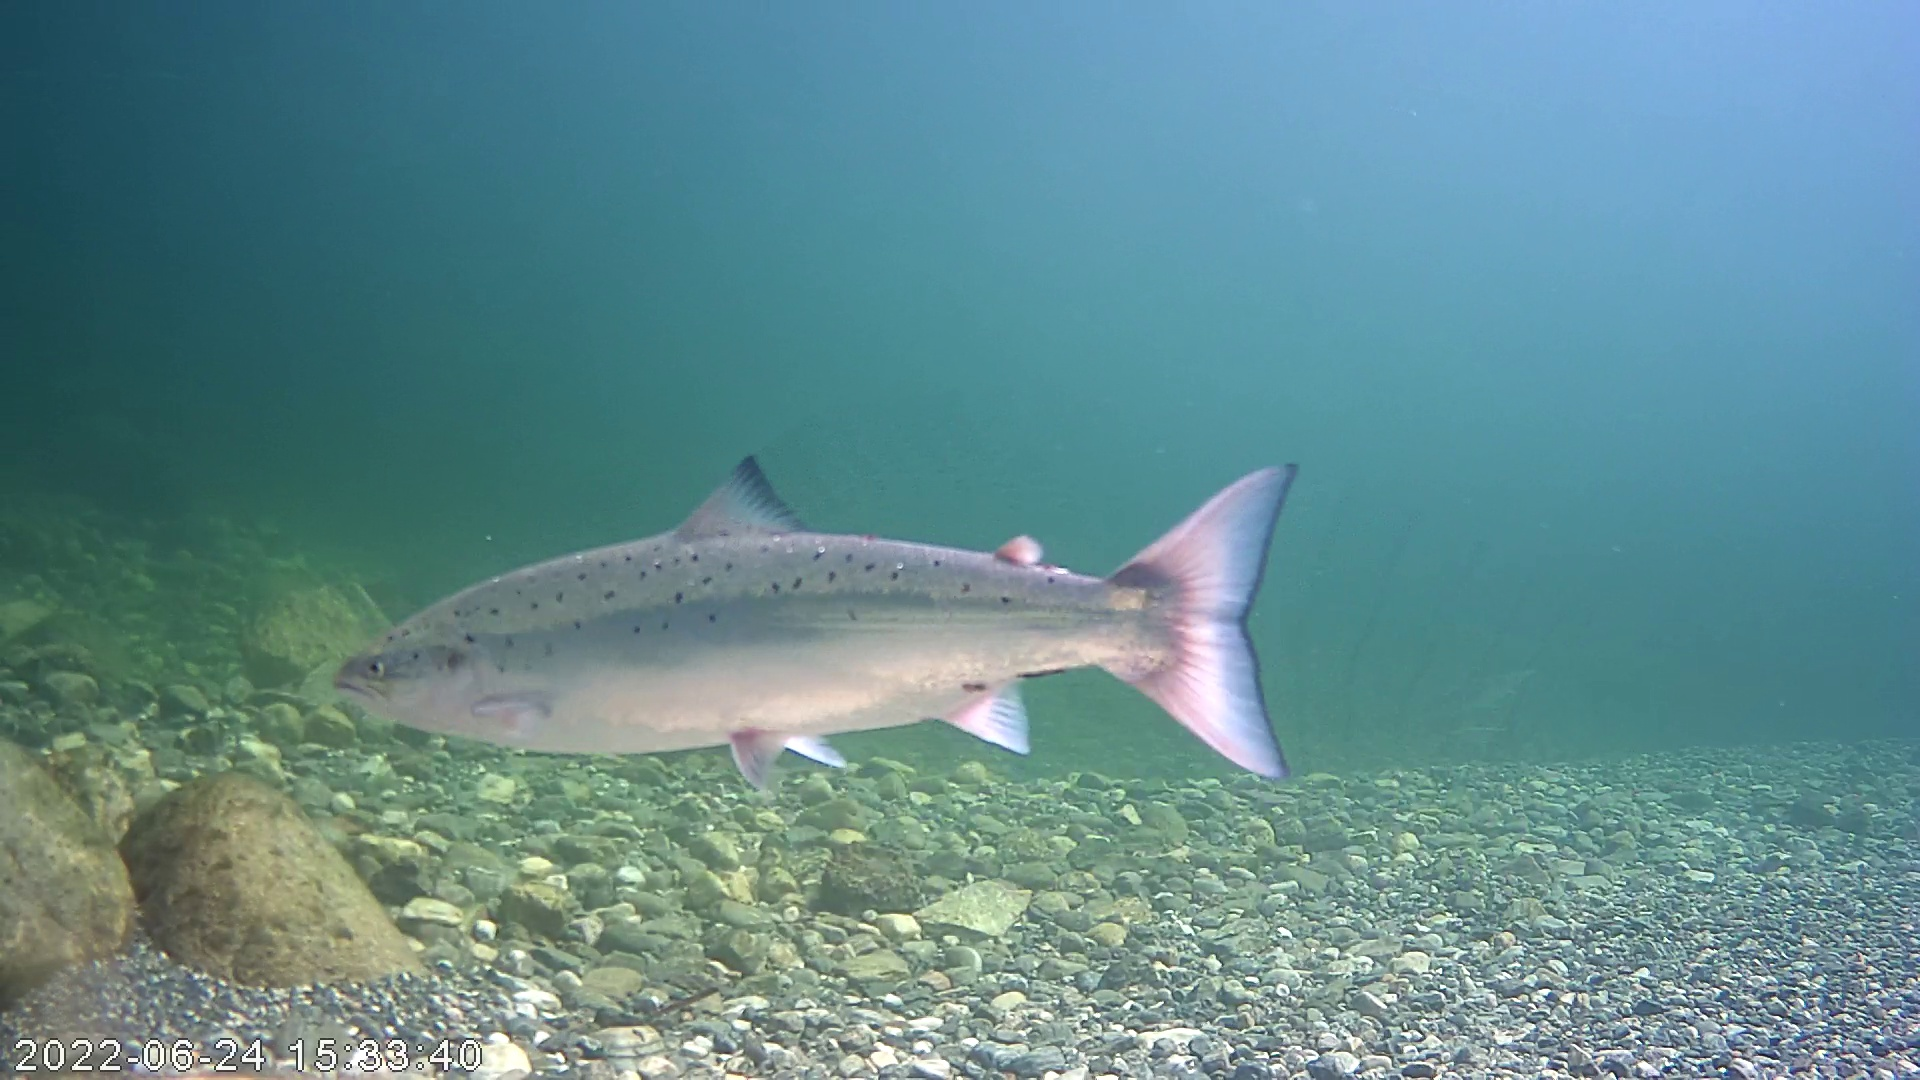salmon: (332, 450, 1303, 793)
